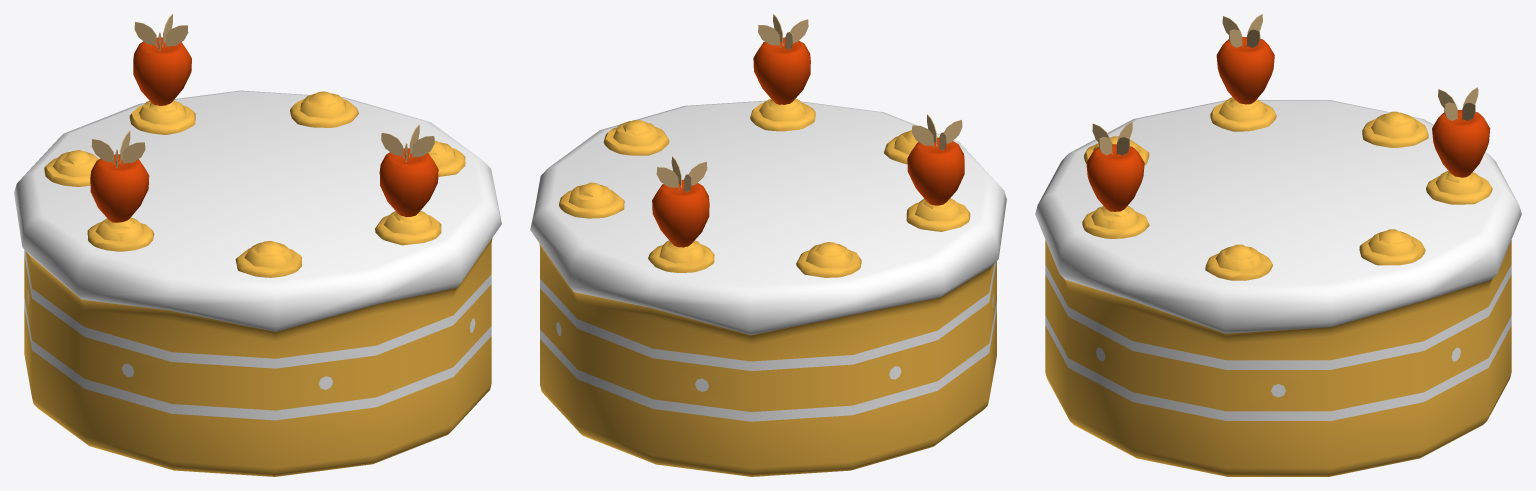
Rendered from Cake_1.fbx.
The picture shows the model from 3 angles, left to right: view 1: azimuth 30°, elevation 25°; view 2: azimuth 150°, elevation 25°; view 3: azimuth 270°, elevation 25°; orthographic projection. The views are drawn at different scales.
Parts seen in each view (by area): view 1: Cake_1; view 2: Cake_1; view 3: Cake_1.
Boxes of the visible parts, bbox=[...] form: Cake_1: bbox=[14, 14, 501, 476]; Cake_1: bbox=[530, 14, 1006, 476]; Cake_1: bbox=[1035, 14, 1521, 476].
Size of the model in its own units: 0.3125 by 0.2088 by 0.3205.
